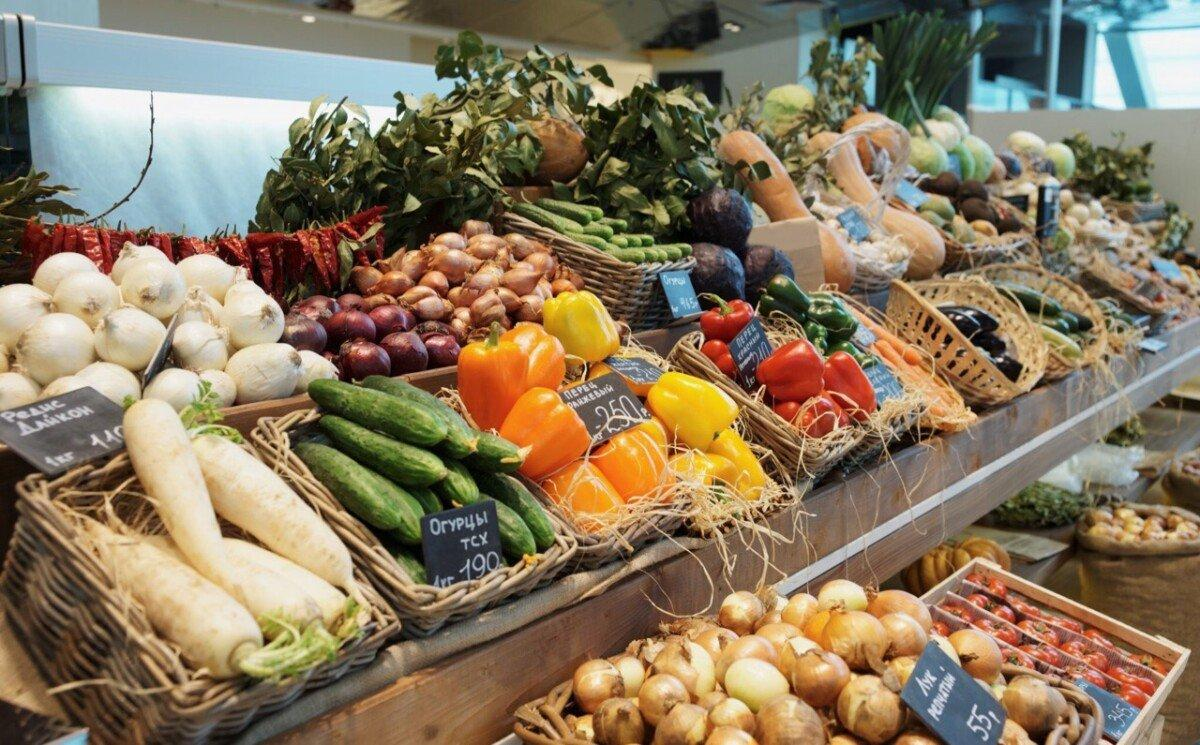butternut squash: (719, 126, 853, 287), (804, 130, 947, 276)
cabbage: (910, 106, 996, 184), (1010, 121, 1079, 182), (758, 82, 818, 133)
cucumber: (284, 368, 555, 578), (518, 193, 694, 264)
eggplant: (932, 295, 1027, 381)
melon: (503, 107, 592, 183)
onion: (540, 578, 1069, 745), (1, 235, 336, 401), (351, 214, 574, 339), (280, 291, 464, 379), (1077, 499, 1200, 552)
pumpkin: (900, 538, 1012, 595)
sweet pepper: (468, 296, 754, 530), (698, 270, 892, 436)
tomato: (949, 563, 1163, 694)
